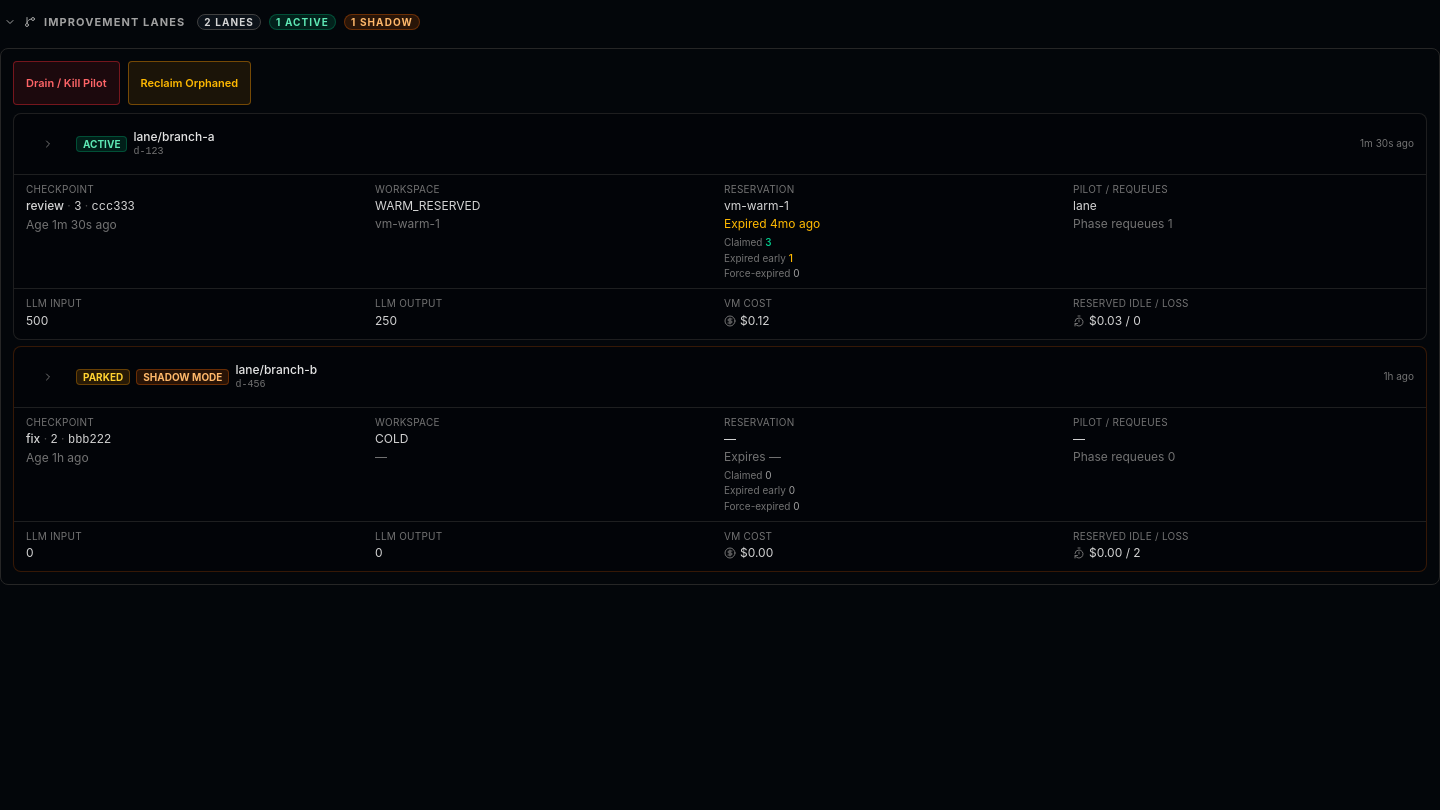
Scenario: ImprovementLanesPanel › shows error banner on drain failure
This screenshot has width=1440, height=810.
Click the button with test id "drain-lane-pilot-button": (66,83) 13,61 -> 120,105
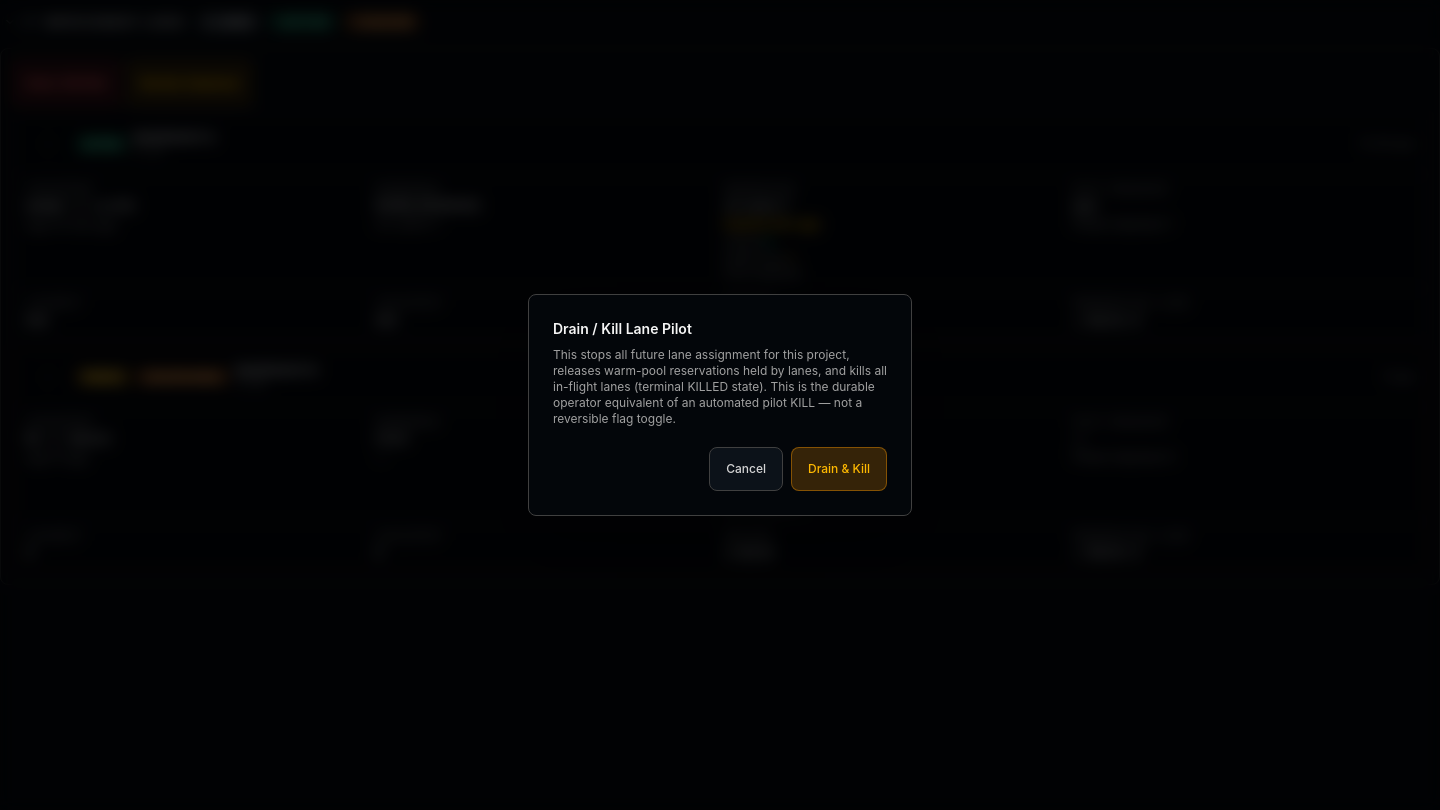
Click the button "Drain & Kill": (839,469) 791,447 -> 887,491
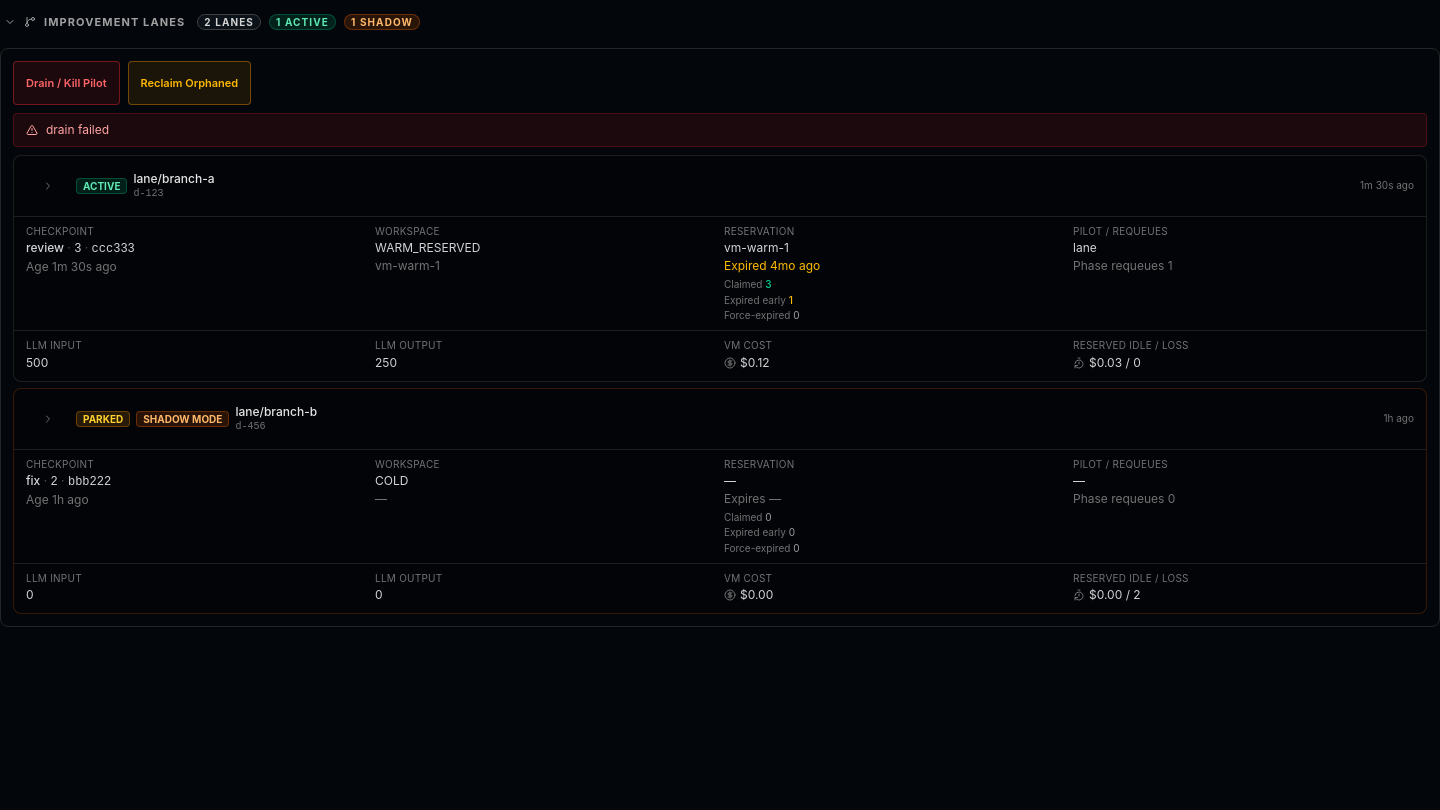
Now the text "drain failed" is shown, box 46,122 -> 109,138
